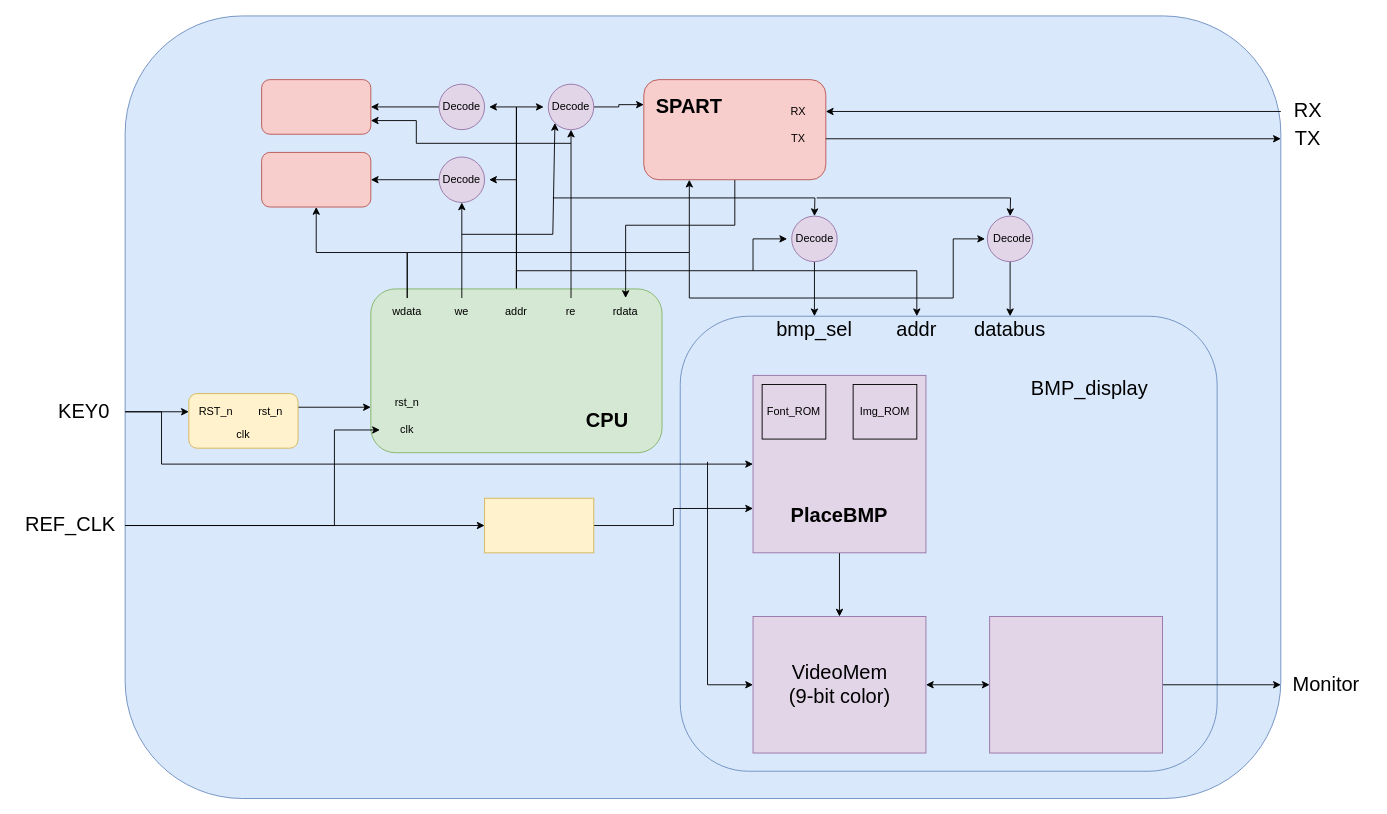
This 1387x814 diagram has some shape labels left out. The centre of each missing label's shape, as x and y in pixels:
LEDR[9:0]: [316,179]
PLL: [539,525]
SW[9:0]: [316,106]
VGA_timing: [1076,684]
